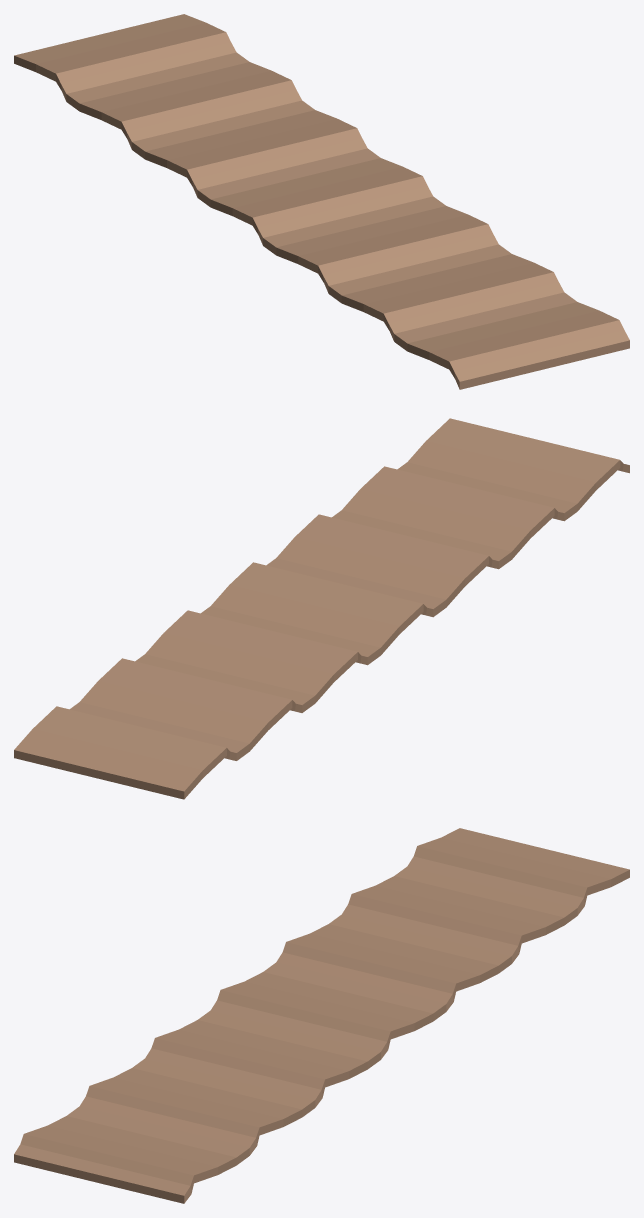
Rendered from Suelo003.fbx.
3 renders of one model, top to bottom at view 1: azimuth 30°, elevation 25°; view 2: azimuth 150°, elevation 25°; view 3: azimuth 330°, elevation 25°, orthographic.
Visible parts, largest first — view 1: Cube.013; view 2: Cube.013; view 3: Cube.013.
Part boxes in pixels (<box>): Cube.013: <box>14,14,629,389</box>; Cube.013: <box>14,418,629,799</box>; Cube.013: <box>14,828,629,1203</box>.
Bounding box in the file's own units: 446 × 51.97 × 1998.
